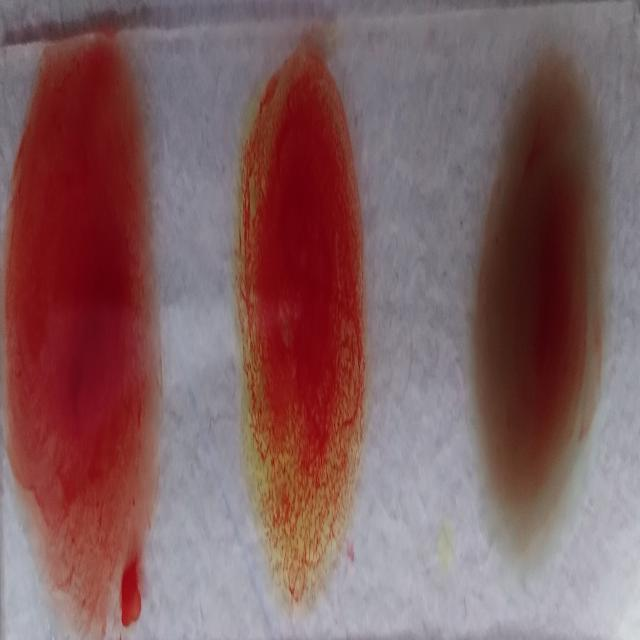B: (241, 42, 372, 607)
D: (17, 42, 162, 598)
